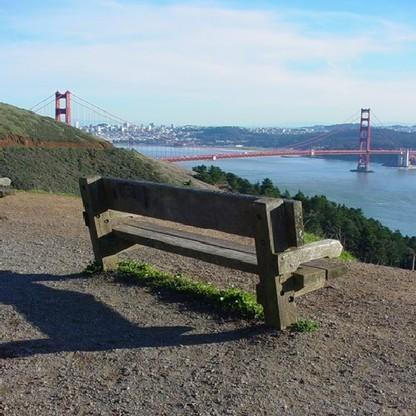obstacle: (71, 161, 357, 333)
